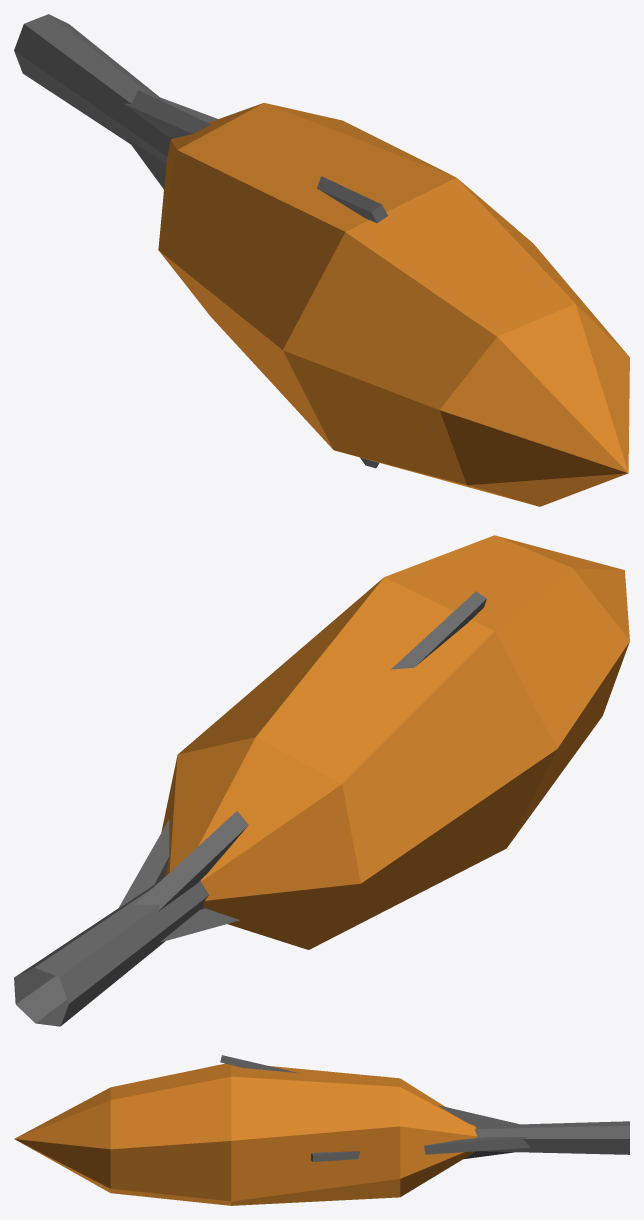
File: dying_1.glb
3 renders of one model, top to bottom at view 1: azimuth 30°, elevation 25°; view 2: azimuth 150°, elevation 25°; view 3: azimuth 270°, elevation 25°, orthographic. The views are drawn at different scales.
Visible parts, largest first — view 1: tree_10_dying_1; view 2: tree_10_dying_1; view 3: tree_10_dying_1.
Boxes of the visible parts, x1=… form: tree_10_dying_1: x1=14, y1=14, x2=629, y2=506; tree_10_dying_1: x1=14, y1=535, x2=629, y2=1026; tree_10_dying_1: x1=14, y1=1055, x2=629, y2=1205.
Bounding box in the file's own units: 7.85 × 7.61 × 30.82.
